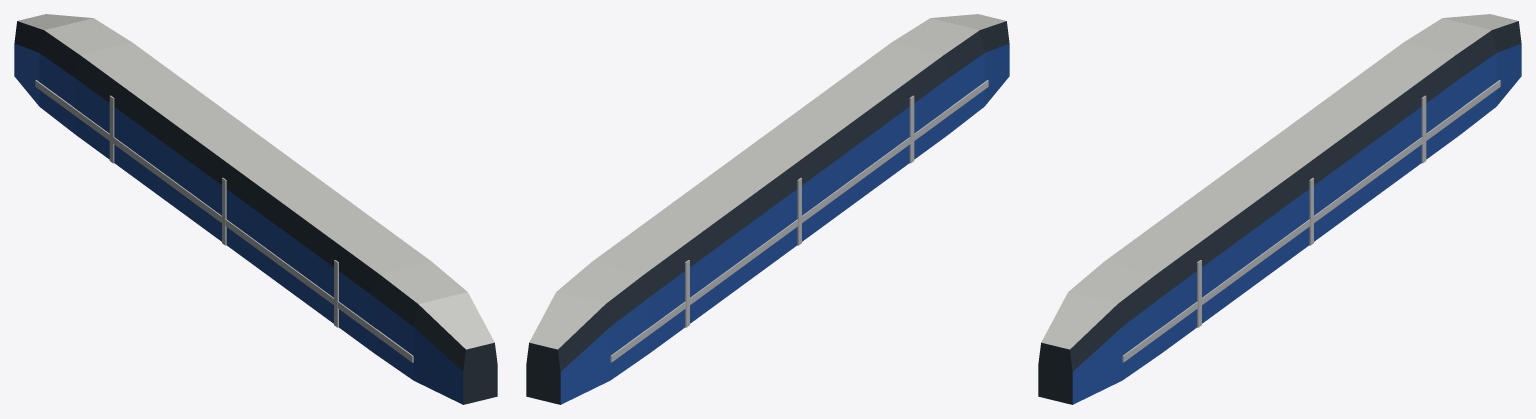
File: seattle_monorail_train_blue.glb
3 views of the same model, side by side, from view 1: azimuth 30°, elevation 25°; view 2: azimuth 150°, elevation 25°; view 3: azimuth 330°, elevation 25° (orthographic).
Visible parts, largest first — view 1: seattle_monorail_train_blue; view 2: seattle_monorail_train_blue; view 3: seattle_monorail_train_blue.
Boxes of the visible parts, x1=… form: seattle_monorail_train_blue: x1=14, y1=14, x2=497, y2=404; seattle_monorail_train_blue: x1=526, y1=14, x2=1009, y2=404; seattle_monorail_train_blue: x1=1038, y1=14, x2=1521, y2=404.
Size of the model in its own units: 3.12 by 3.8 by 37.5.
1 material, 1 textured.
